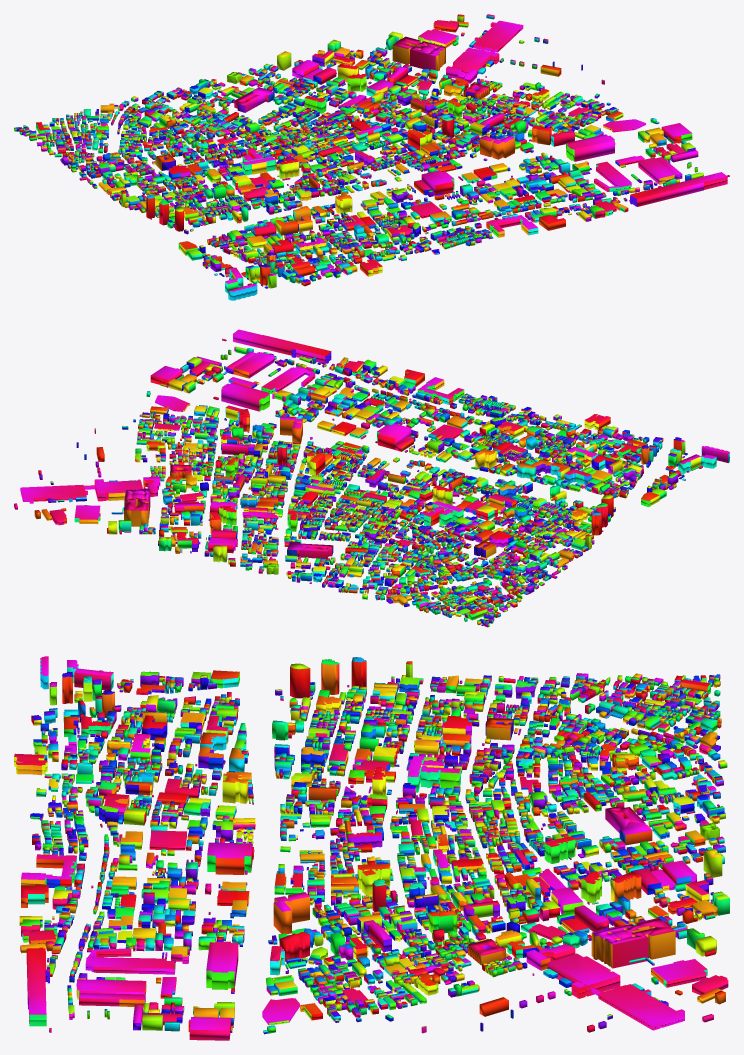
3 views of the same model, one above another, from view 1: azimuth 30°, elevation 25°; view 2: azimuth 150°, elevation 25°; view 3: azimuth 270°, elevation 25° (orthographic). The views are drawn at different scales.
Visible parts, largest first — view 1: BLD_5c86ffb7-9836-4916-9967-647c934a8aa8; view 2: BLD_5c86ffb7-9836-4916-9967-647c934a8aa8; view 3: BLD_5c86ffb7-9836-4916-9967-647c934a8aa8.
Part boxes in pixels (box(x1,y1,x2,y2)): BLD_5c86ffb7-9836-4916-9967-647c934a8aa8: box(14, 14, 729, 300); BLD_5c86ffb7-9836-4916-9967-647c934a8aa8: box(14, 329, 729, 627); BLD_5c86ffb7-9836-4916-9967-647c934a8aa8: box(14, 656, 729, 1040).
Size of the model in its own units: 1188 by 49.98 by 970.
